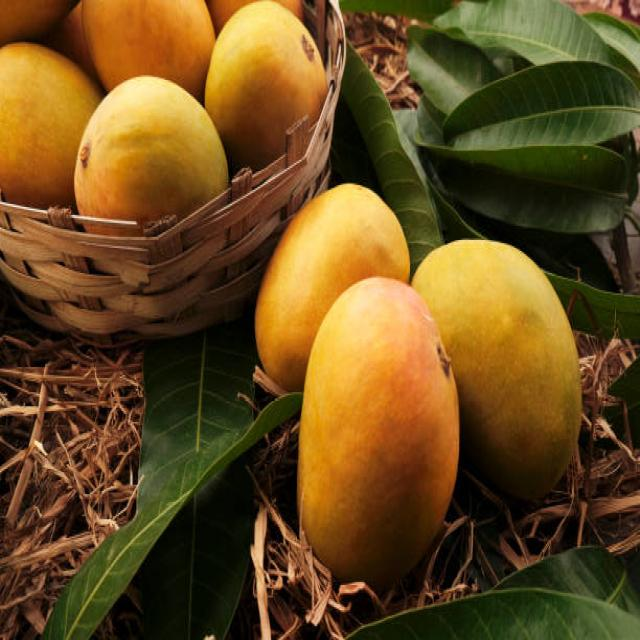mango: (298, 278, 459, 588), (411, 240, 581, 499), (255, 184, 409, 392), (74, 77, 229, 224), (205, 0, 328, 172), (0, 45, 102, 209), (82, 0, 215, 100)
